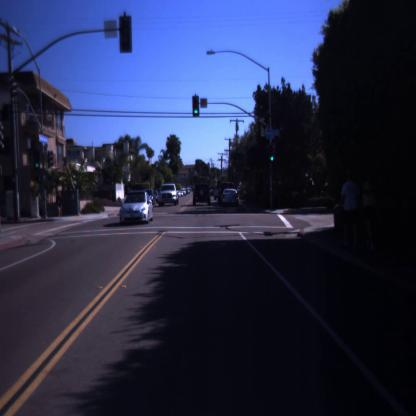trafficlight: (192, 95, 200, 117)
